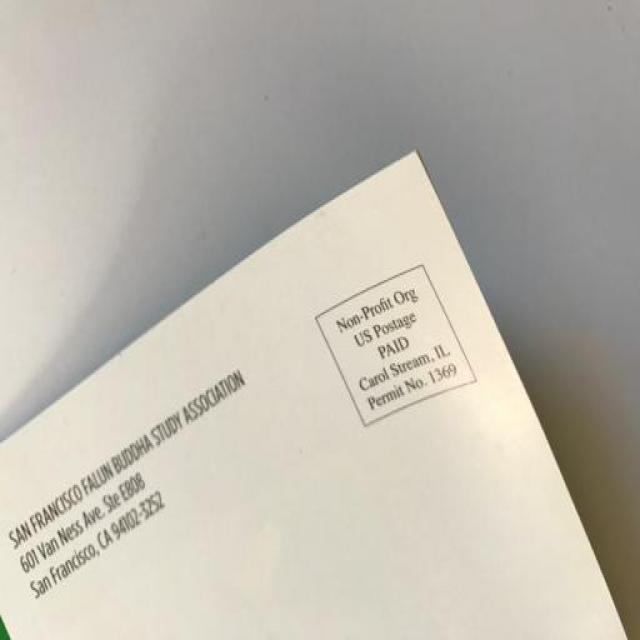paper: (3, 132, 625, 640)
